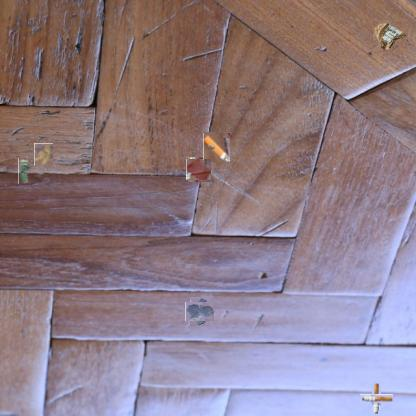dirty: (373, 20, 408, 52), (203, 132, 230, 162), (366, 388, 387, 409), (34, 143, 53, 166), (18, 158, 31, 184)
liquid: (188, 299, 212, 324), (187, 158, 211, 181)
